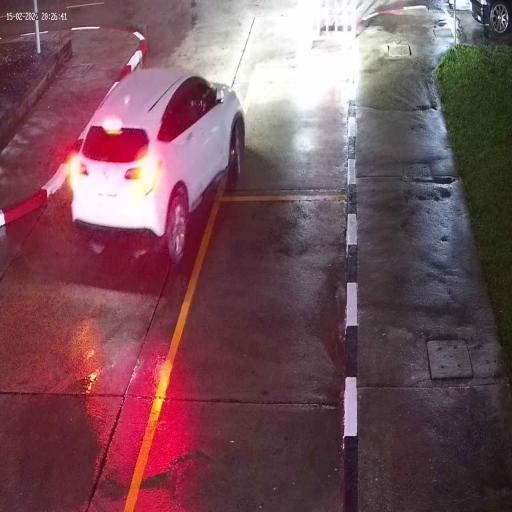car: (71, 70, 246, 268)
